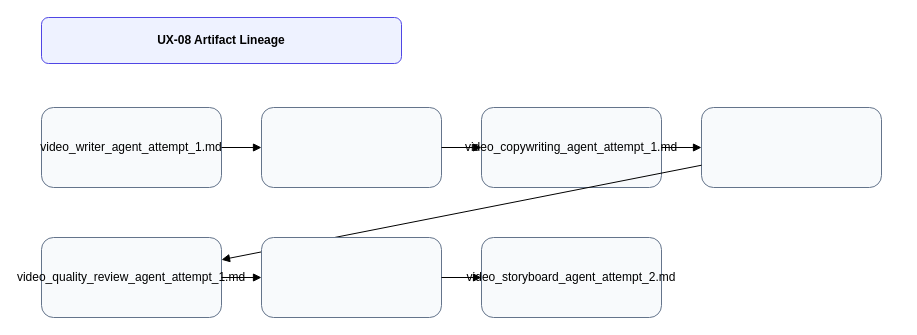
The diagram is 917 pixels wide and 335 high, and some of its shapes have lost their labels. Each missing label, with the centre of its shape:
"video_editing_plan_agent_attempt_1.md" belongs at (x=791, y=147).
"video_publish_preparation_agent_attempt_1.md" belongs at (x=351, y=277).
"video_storyboard_agent_attempt_1.md" belongs at (x=351, y=147).
